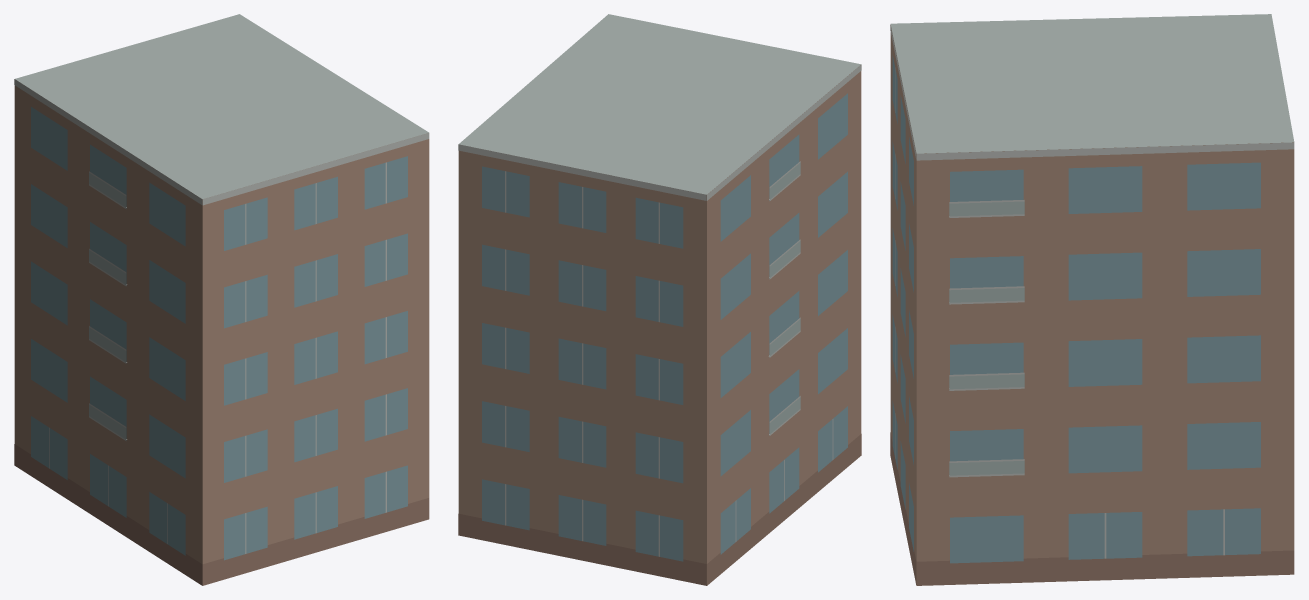
Rendered from survey-upis-32737453.glb.
The picture shows the model from 3 angles, left to right: view 1: azimuth 30°, elevation 25°; view 2: azimuth 150°, elevation 25°; view 3: azimuth 270°, elevation 25°; orthographic projection. The views are drawn at different scales.
Visible parts, largest first — view 1: survey-upis-32737453.tmp; view 2: survey-upis-32737453.tmp; view 3: survey-upis-32737453.tmp.
Boxes of the visible parts, <box> form: survey-upis-32737453.tmp: <box>14,14,429,585</box>; survey-upis-32737453.tmp: <box>458,14,861,585</box>; survey-upis-32737453.tmp: <box>890,14,1294,585</box>.
Size of the model in its own units: 10.58 by 15.25 by 12.93.
